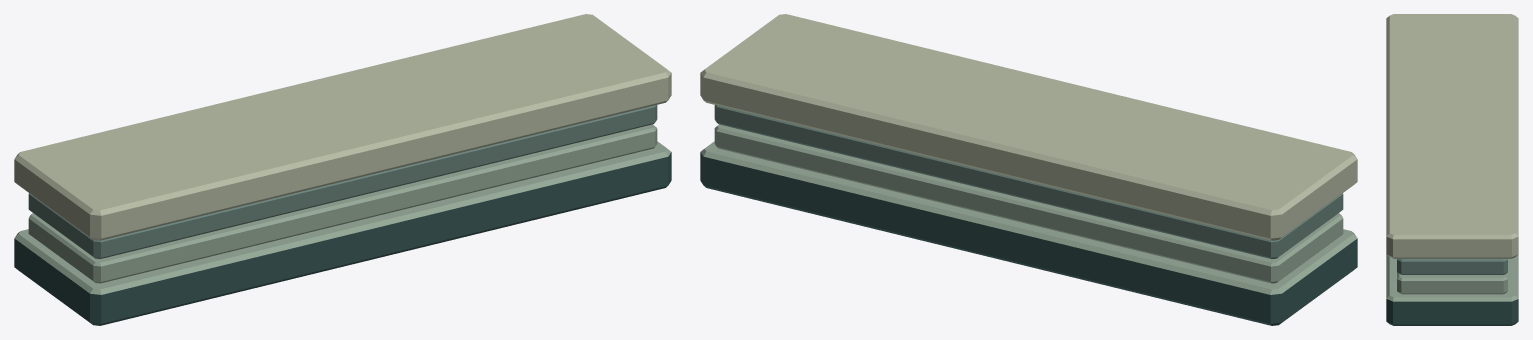
Rendered from wall-low.glb.
3 renders of one model, left to right at view 1: azimuth 30°, elevation 25°; view 2: azimuth 150°, elevation 25°; view 3: azimuth 270°, elevation 25°, orthographic. The views are drawn at different scales.
Visible parts, largest first — view 1: wall-low__body; view 2: wall-low__body; view 3: wall-low__body.
Part boxes in pixels (left/top/right/bottom): wall-low__body: left=14, top=14, right=671, bottom=325; wall-low__body: left=700, top=14, right=1357, bottom=325; wall-low__body: left=1386, top=14, right=1518, bottom=325.
Size of the model in its own units: 2 by 0.38 by 0.5.
